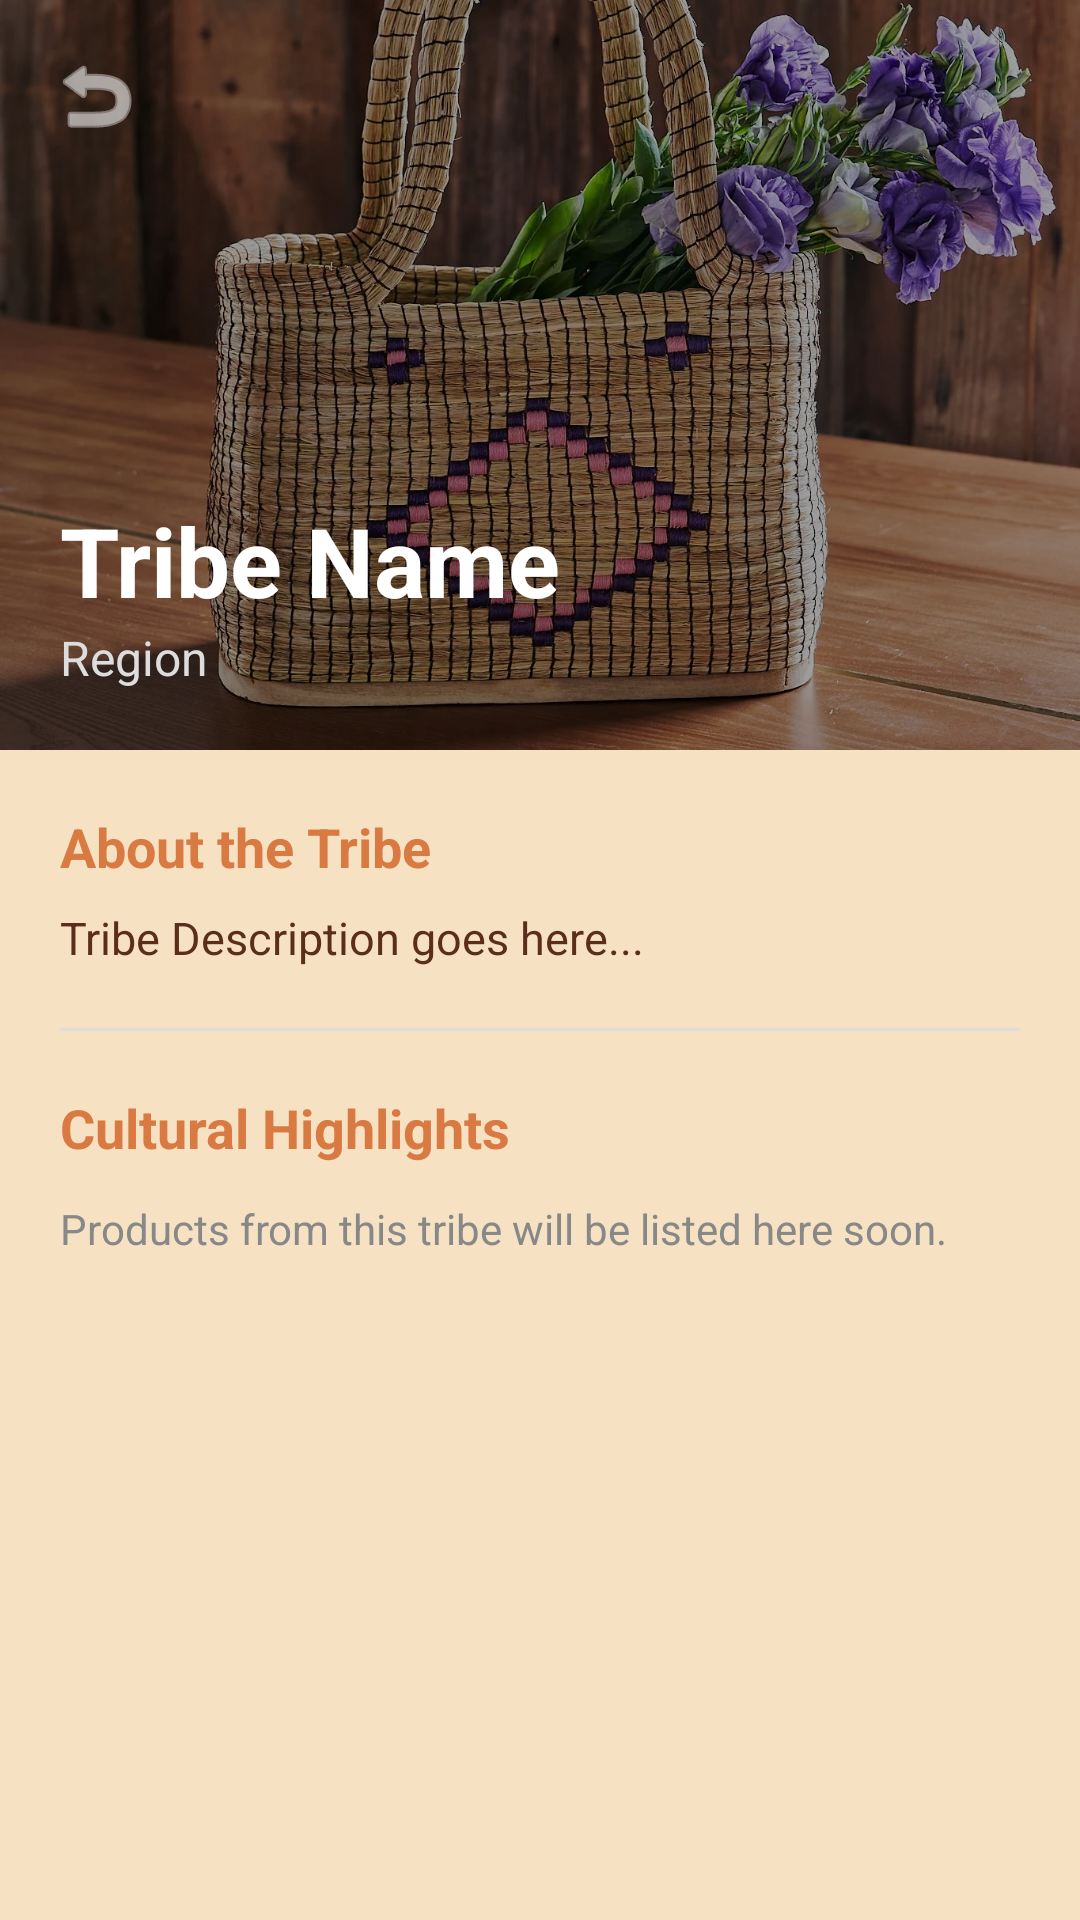

Screen size 1080x1920. Icon name, then its center in pixels as [x,y]:
revert: [90,90]
